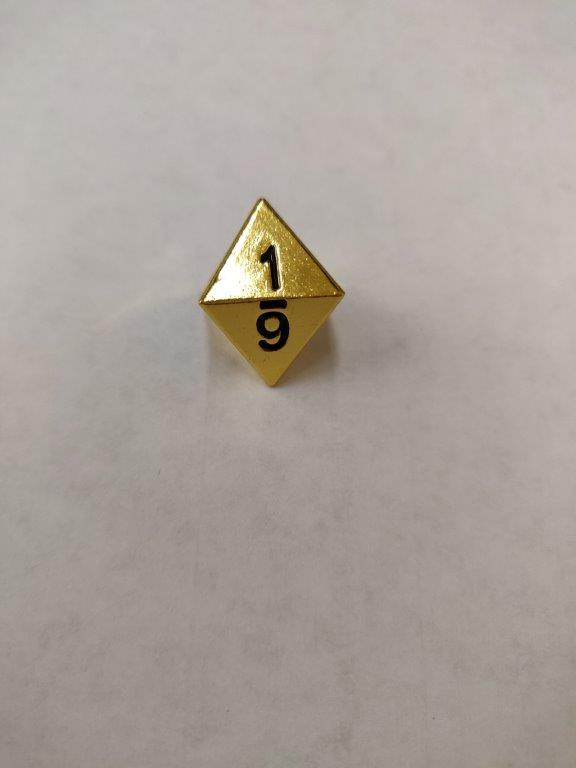d8-1: (193, 196, 346, 391)
